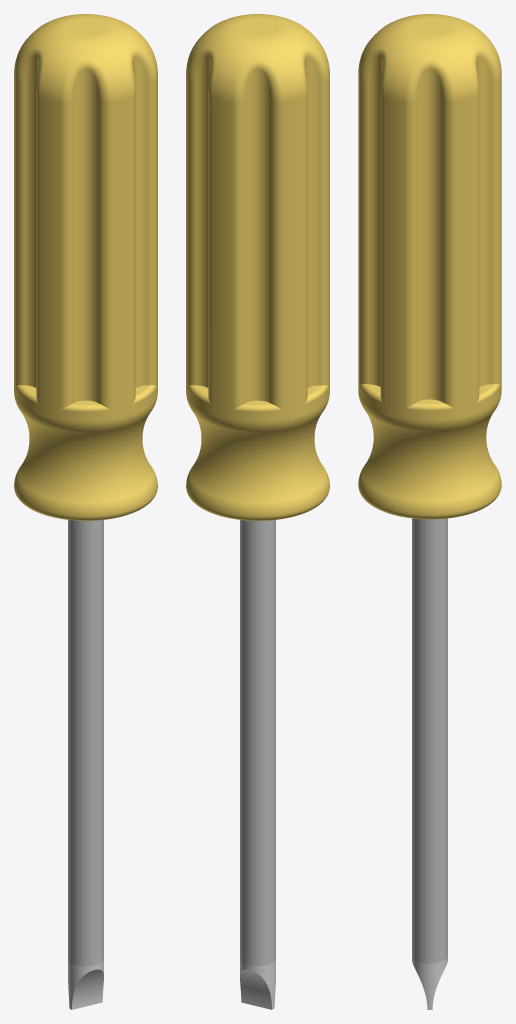
File: Flathead_Screwdriver.glb
3 views of the same model, side by side, from view 1: azimuth 30°, elevation 25°; view 2: azimuth 150°, elevation 25°; view 3: azimuth 270°, elevation 25° (orthographic).
Visible parts, largest first — view 1: Body1, Body1:1, Body1:2; view 2: Body1, Body1:1, Body1:2; view 3: Body1, Body1:1, Body1:2.
Part boxes in pixels (x1,y1,x2,y2): Body1: [14, 14, 157, 520]; Body1:1: [68, 520, 103, 966]; Body1:2: [68, 960, 103, 1009]; Body1: [186, 14, 329, 520]; Body1:1: [240, 520, 275, 966]; Body1:2: [240, 960, 275, 1009]; Body1: [358, 14, 501, 519]; Body1:1: [412, 518, 447, 963]; Body1:2: [412, 957, 447, 1009].
Bounding box in the file's own units: 28 × 210 × 28.
